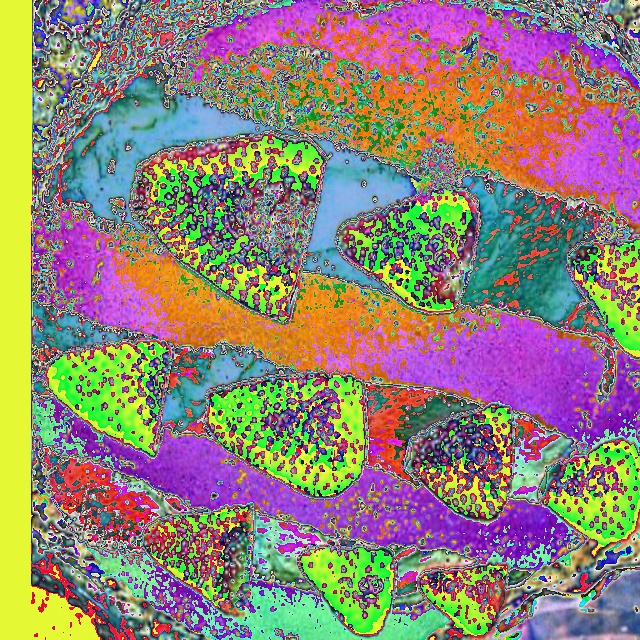background: (33, 0, 639, 640)
